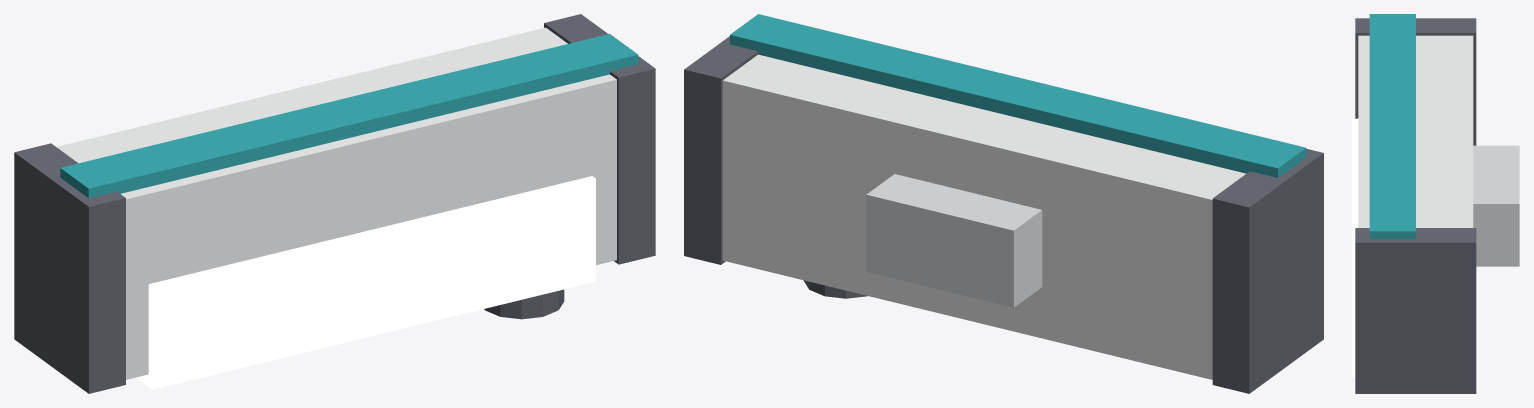
3 renders of one model, left to right at view 1: azimuth 30°, elevation 25°; view 2: azimuth 150°, elevation 25°; view 3: azimuth 270°, elevation 25°, orthographic. The views are drawn at different scales.
Parts seen in each view (by area): view 1: dimmable-wall-light; view 2: dimmable-wall-light; view 3: dimmable-wall-light.
Boxes of the visible parts, x1,y1,x2,y2 form: dimmable-wall-light: (14,14,655,393); dimmable-wall-light: (684,14,1323,393); dimmable-wall-light: (1352,14,1519,393).
Size of the model in its own units: 0.46 by 0.18 by 0.145.
